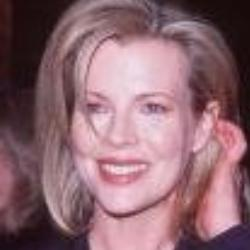face: (26, 5, 247, 238)
